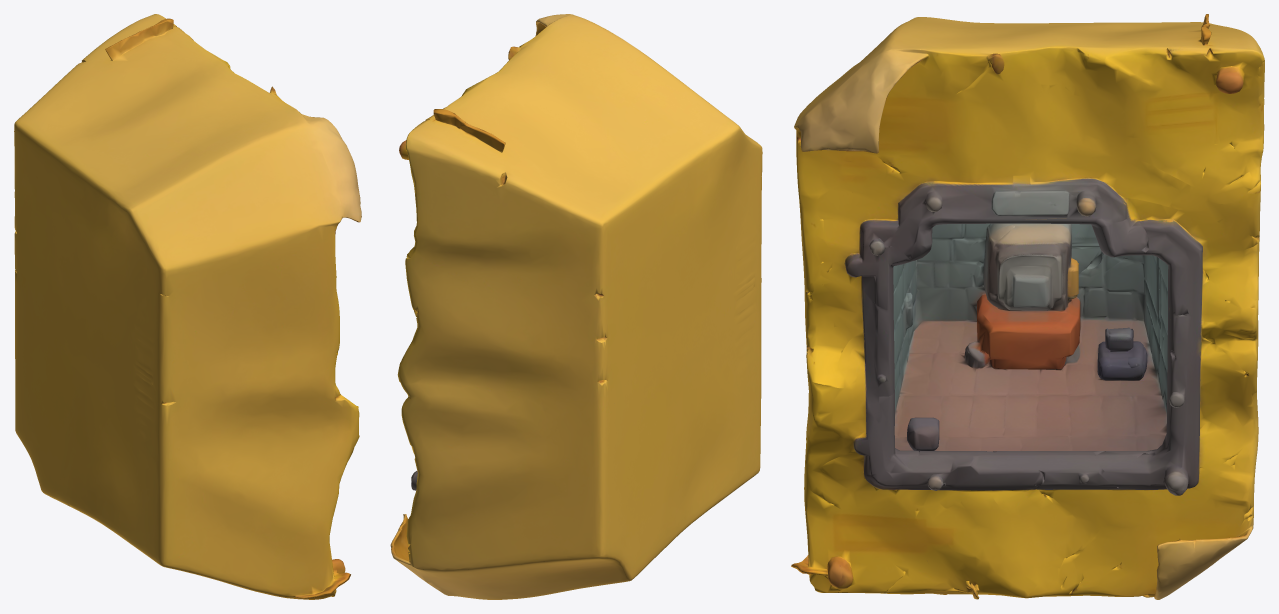
The model's file is poster_2.glb.
3 views of the same model, side by side, from view 1: azimuth 30°, elevation 25°; view 2: azimuth 150°, elevation 25°; view 3: azimuth 270°, elevation 25° (orthographic). The views are drawn at different scales.
Visible parts, largest first — view 1: tripo_node_4c833f05-2c24-4490-b45d-56984f415816; view 2: tripo_node_4c833f05-2c24-4490-b45d-56984f415816; view 3: tripo_node_4c833f05-2c24-4490-b45d-56984f415816.
Boxes of the visible parts, left/top/right/bottom form: tripo_node_4c833f05-2c24-4490-b45d-56984f415816: left=14, top=14, right=361, bottom=599; tripo_node_4c833f05-2c24-4490-b45d-56984f415816: left=390, top=14, right=762, bottom=599; tripo_node_4c833f05-2c24-4490-b45d-56984f415816: left=791, top=14, right=1264, bottom=599.
Bounding box in the file's own units: 0.4651 × 0.9788 × 0.7471.
1 material, 1 textured.
